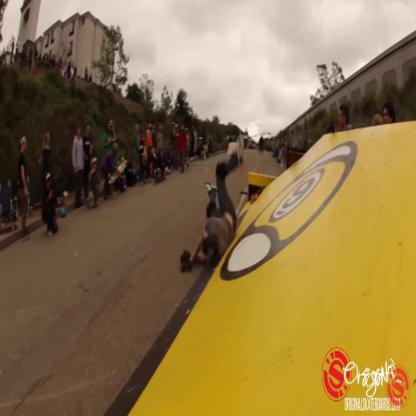Fall_Down: (177, 129, 245, 278)
